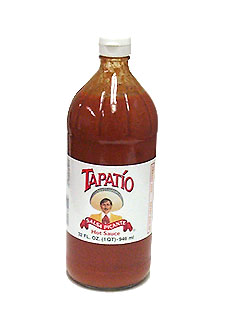grozi_44: (65, 36, 160, 292)
